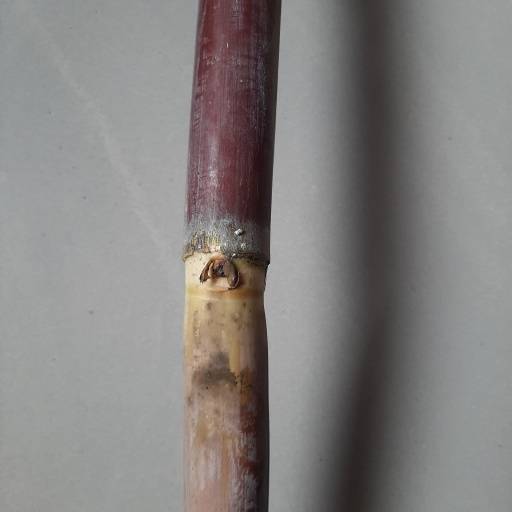Damage_Bud: (198, 256, 238, 293)
